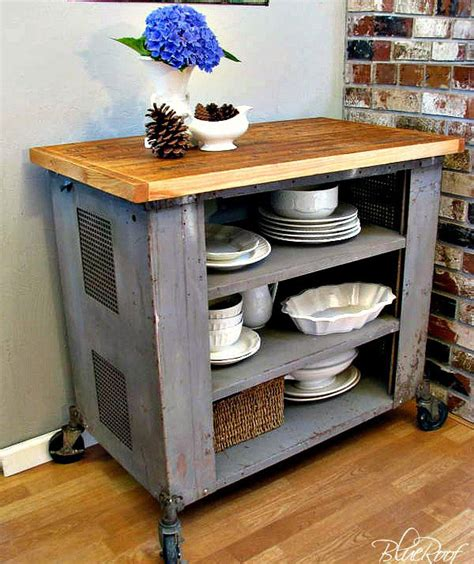Carts: (29, 116, 469, 564)
